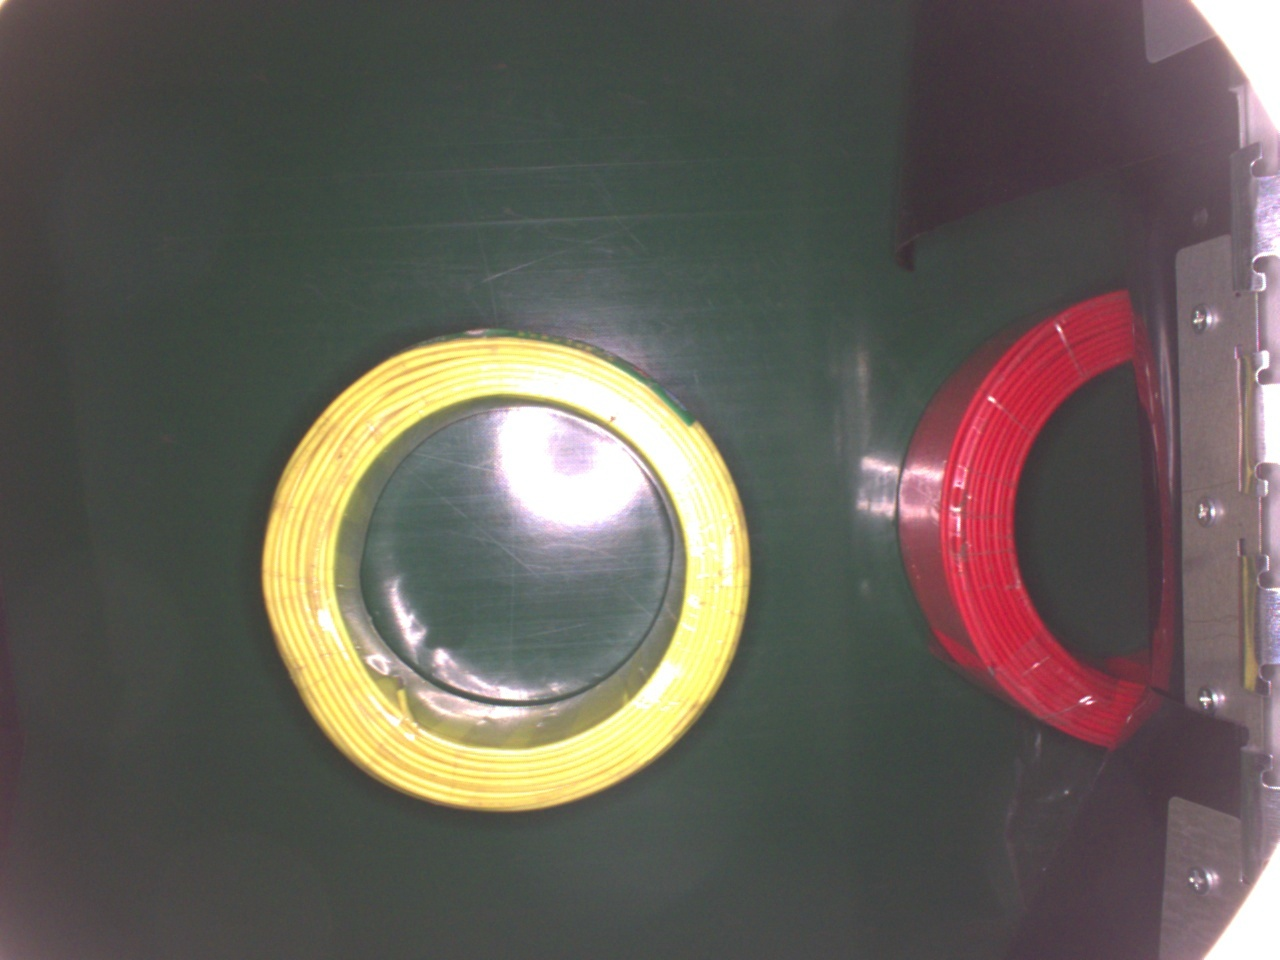red: (894, 285, 1147, 753)
yellow: (256, 329, 752, 820)
